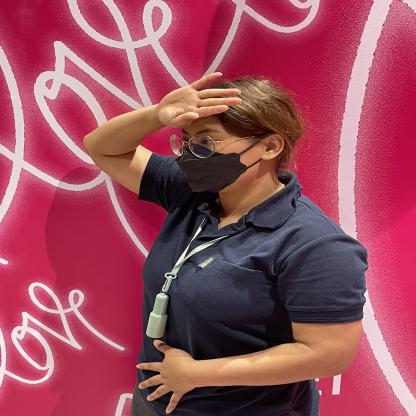Sick: (39, 56, 270, 154)
